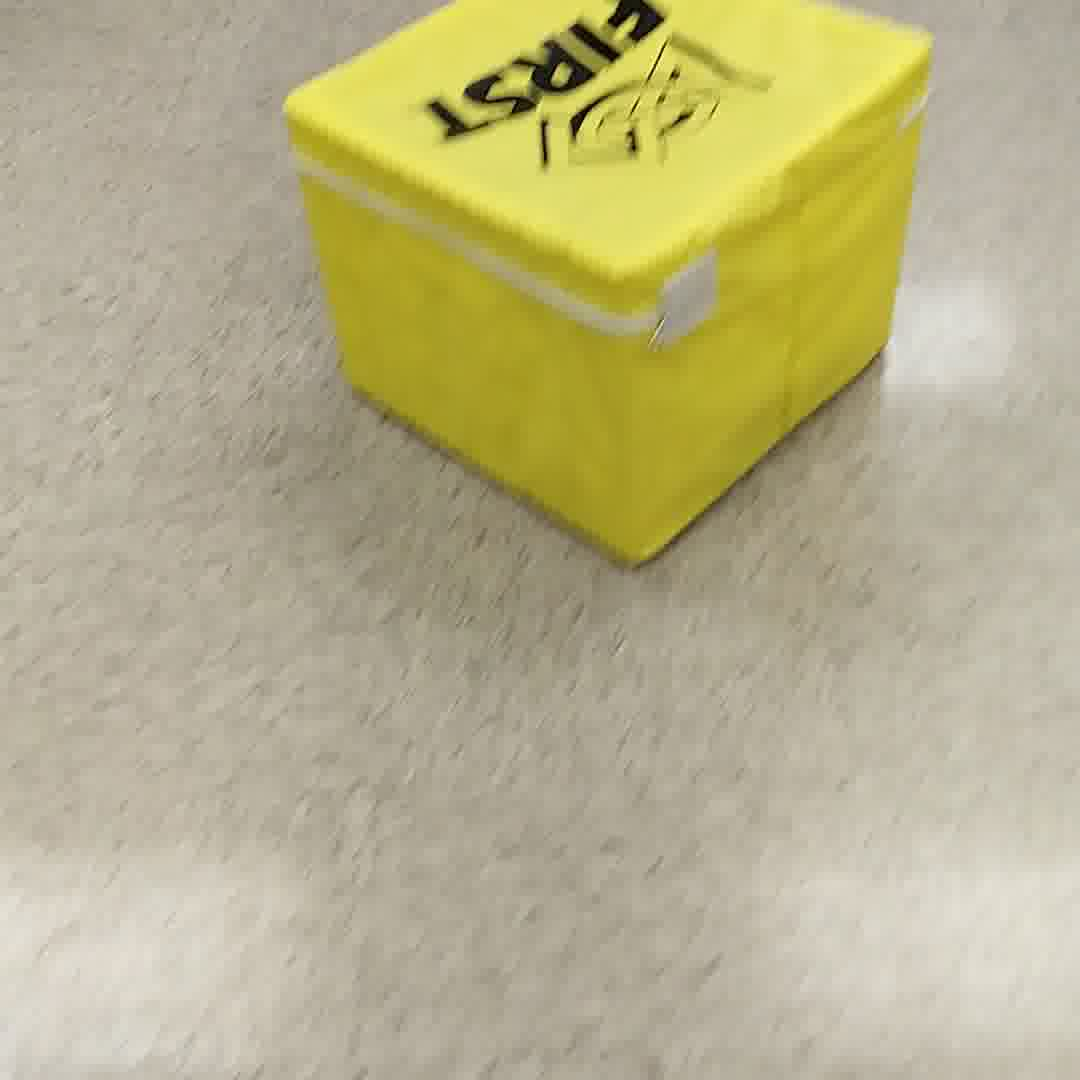box: (273, 5, 952, 576)
